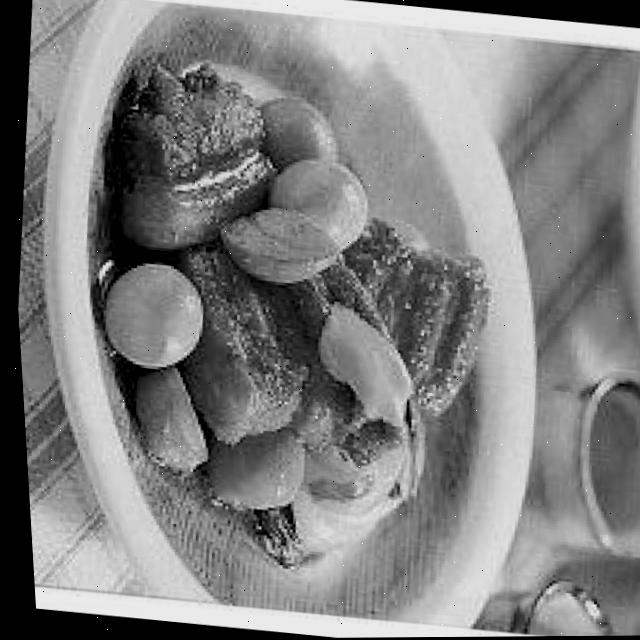猪肉菜式: (1, 10, 566, 626)
